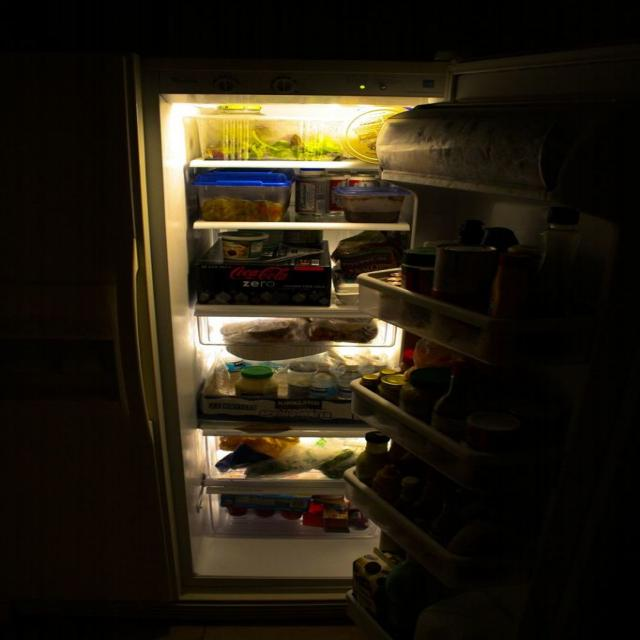refrigerator: (117, 62, 469, 606)
